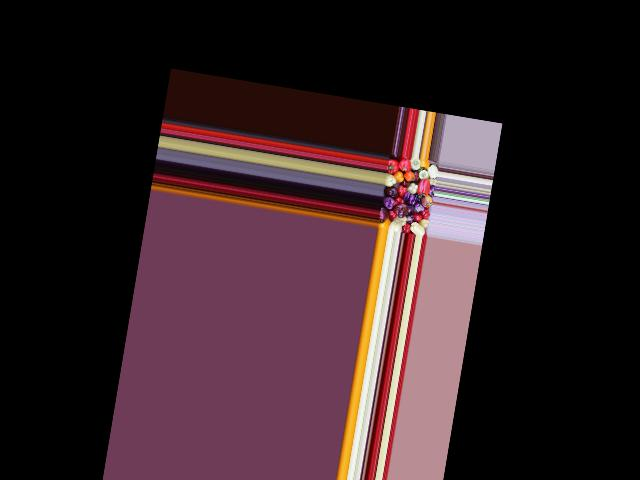bell_pepper: (409, 157, 420, 172)
